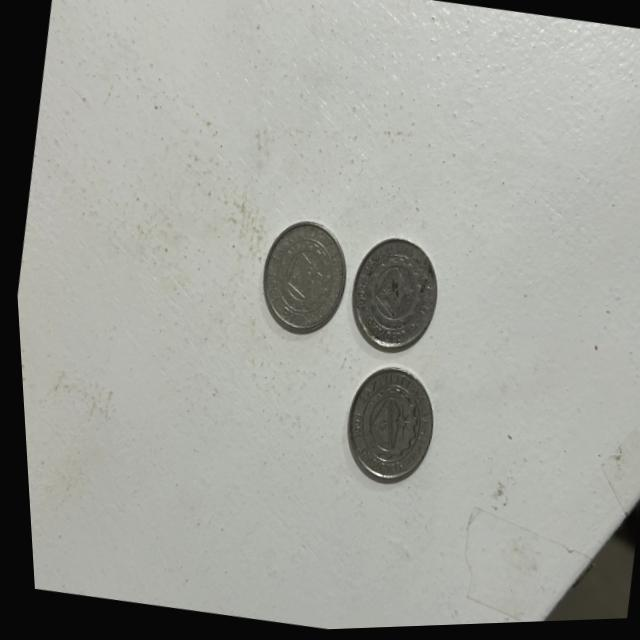1_Old_Back: (343, 374, 428, 473), (261, 225, 341, 326), (351, 247, 427, 341), (390, 467, 391, 469)
